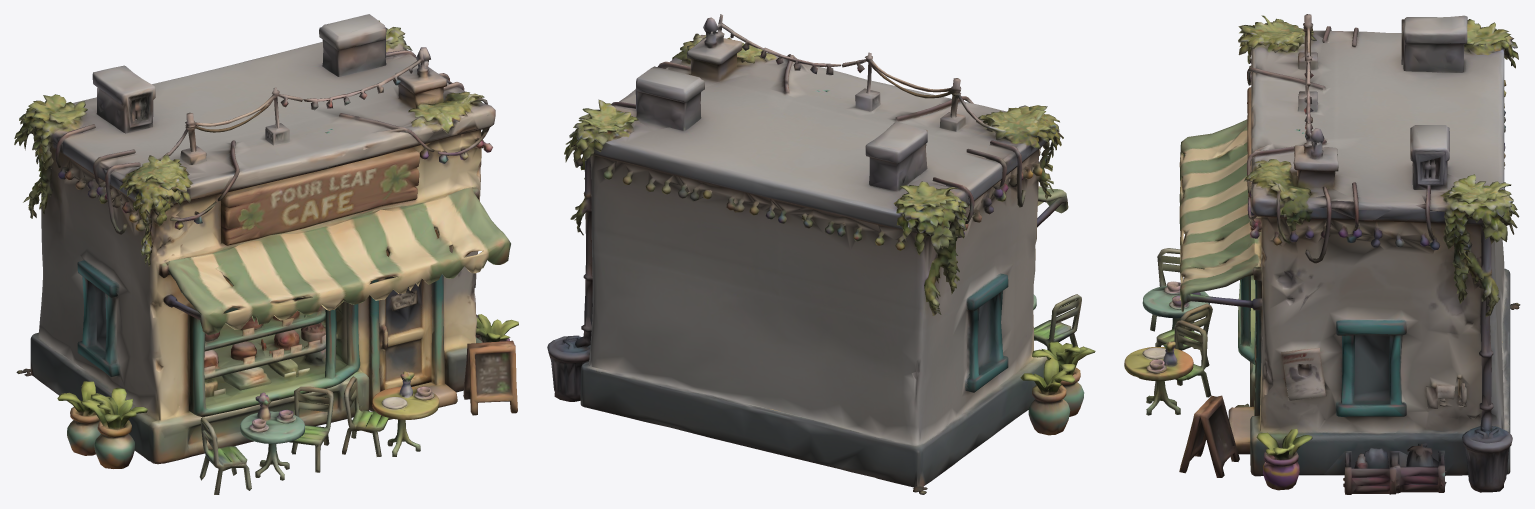
The model's file is store_cafe.glb.
The picture shows the model from 3 angles, left to right: view 1: azimuth 30°, elevation 25°; view 2: azimuth 150°, elevation 25°; view 3: azimuth 270°, elevation 25°; orthographic projection. The views are drawn at different scales.
Parts seen in each view (by area): view 1: tripo_part_0, tripo_part_4, tripo_part_11, tripo_part_3, tripo_part_1, tripo_part_13, tripo_part_7, tripo_part_5, tripo_part_15, tripo_part_2, tripo_part_18, tripo_part_23 (+6 smaller); view 2: tripo_part_0, tripo_part_1, tripo_part_13, tripo_part_3, tripo_part_5, tripo_part_17, tripo_part_23, tripo_part_19, tripo_part_4; view 3: tripo_part_0, tripo_part_4, tripo_part_1, tripo_part_14, tripo_part_5, tripo_part_7, tripo_part_17, tripo_part_15, tripo_part_16, tripo_part_22, tripo_part_13, tripo_part_2 (+4 smaller).
Boxes of the visible parts, box(x1,y1,x2,y2) form: tripo_part_0: box(16, 42, 495, 464); tripo_part_4: box(163, 187, 510, 335); tripo_part_11: box(220, 148, 419, 245); tripo_part_3: box(57, 381, 147, 468); tripo_part_1: box(319, 14, 416, 76); tripo_part_13: box(14, 94, 95, 218); tripo_part_7: box(463, 340, 517, 415); tripo_part_5: box(92, 65, 155, 133); tripo_part_15: box(372, 371, 439, 456); tripo_part_2: box(240, 392, 304, 480); tripo_part_18: box(289, 386, 333, 472); tripo_part_23: box(199, 417, 251, 494); tripo_part_0: box(580, 14, 1063, 494); tripo_part_1: box(564, 66, 704, 326); tripo_part_13: box(893, 177, 974, 315); tripo_part_3: box(1020, 341, 1095, 435); tripo_part_5: box(865, 121, 927, 191); tripo_part_17: box(547, 335, 590, 401); tripo_part_23: box(1034, 294, 1081, 350); tripo_part_19: box(966, 140, 1025, 207); tripo_part_4: box(1037, 186, 1068, 227); tripo_part_0: box(1228, 14, 1520, 476); tripo_part_4: box(1179, 119, 1262, 311); tripo_part_1: box(1410, 125, 1519, 405); tripo_part_14: box(1324, 443, 1446, 494); tripo_part_5: box(1401, 15, 1467, 72); tripo_part_7: box(1179, 395, 1239, 477); tripo_part_17: box(1462, 426, 1512, 492); tripo_part_15: box(1124, 341, 1193, 415); tripo_part_16: box(1256, 428, 1312, 490); tripo_part_22: box(1305, 182, 1390, 263); tripo_part_13: box(1464, 19, 1518, 68); tripo_part_2: box(1142, 281, 1209, 348).
Bounding box in the file's own units: 0.9622 × 0.6823 × 0.7366.
1 material, 1 textured.
